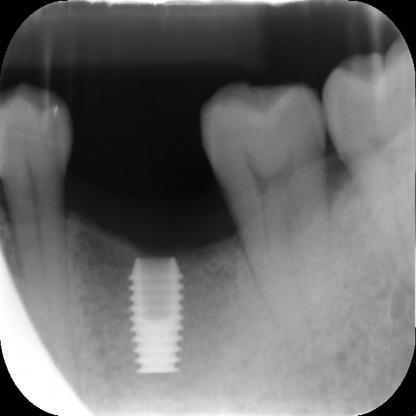Bicon: (130, 250, 184, 376)
